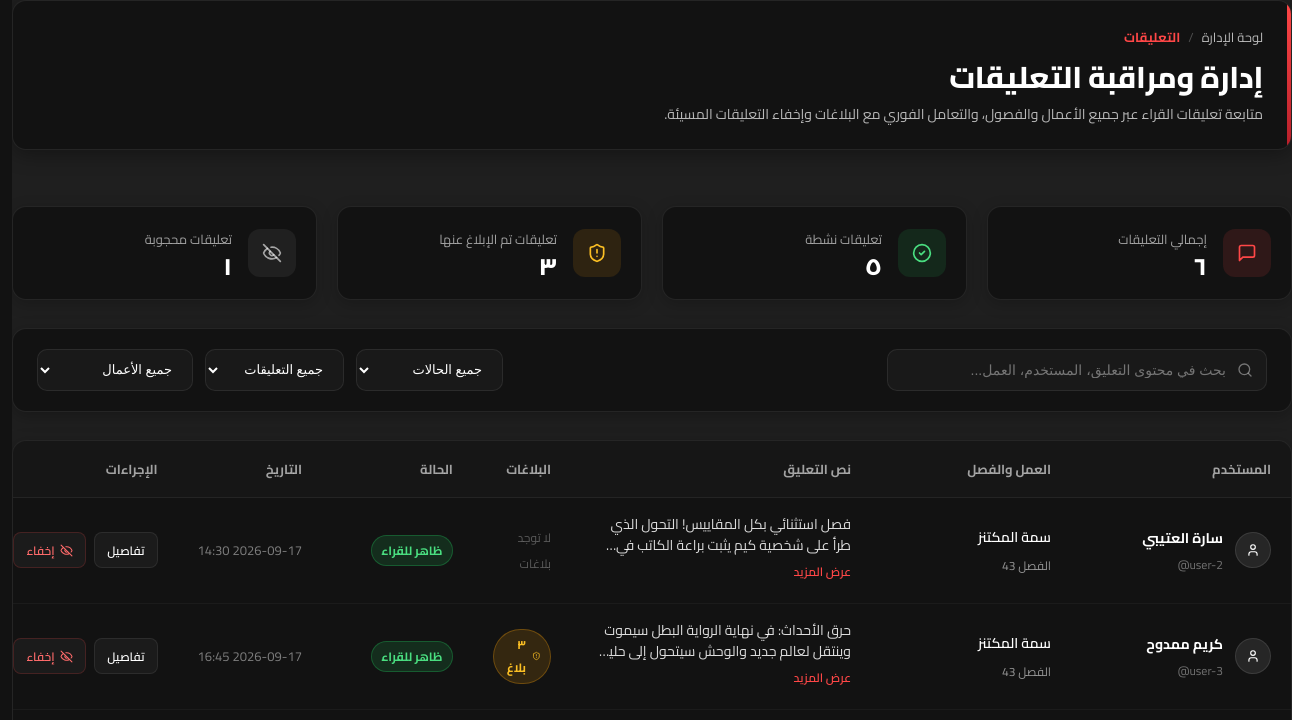
Test case: AdminComments Component › filters comments by reported status
The image size is (1292, 720).
Select "المبلغ عنها فقط" in the dropdown named "تصفية حسب البلاغات" at coordinates (274, 370), box x1=205 y1=349 x2=344 y2=391
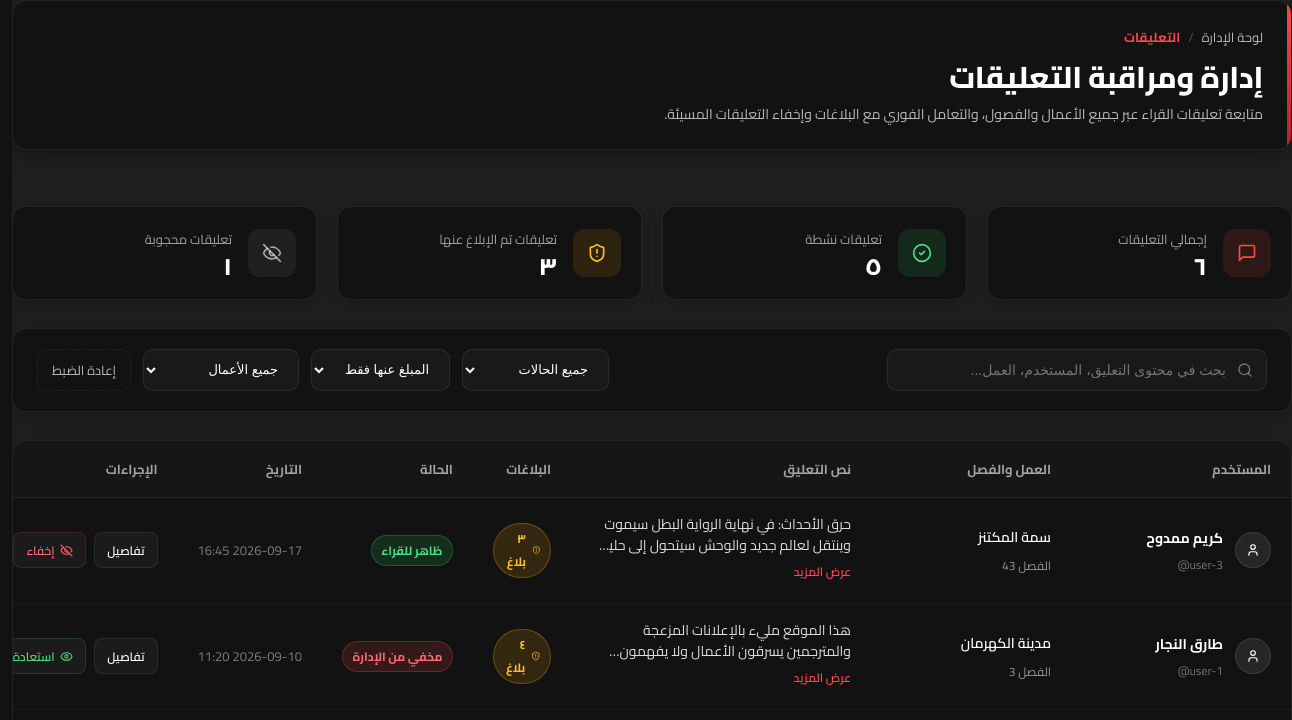
Expected: the text "حرق الأحداث: في نهاية الرواية البطل سيموت" is shown, x1=592 y1=511 x2=851 y2=600
Expected: the text "فصل استثنائي بكل المقاييس" is gone
